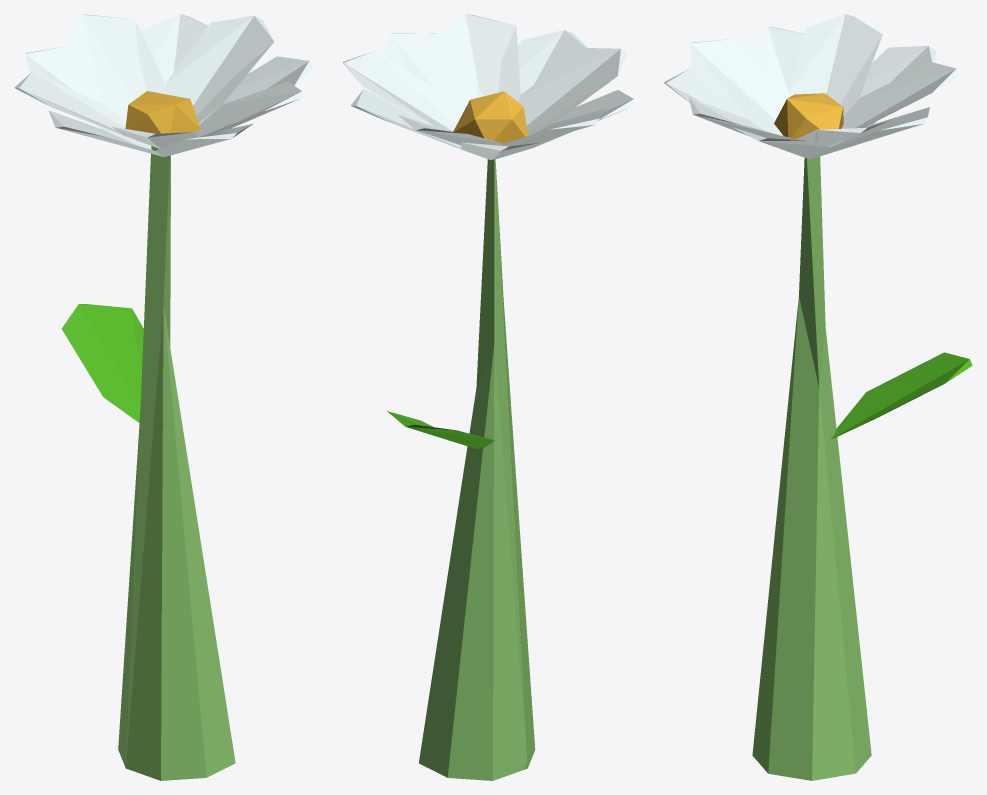
File: margarita1.obj
The picture shows the model from 3 angles, left to right: view 1: azimuth 30°, elevation 25°; view 2: azimuth 150°, elevation 25°; view 3: azimuth 270°, elevation 25°; orthographic projection. The views are drawn at different scales.
Visible parts, largest first — view 1: Cube; view 2: Cube; view 3: Cube.
Boxes of the visible parts, x1=… form: Cube: x1=14, y1=14, x2=313, y2=780; Cube: x1=342, y1=14, x2=634, y2=780; Cube: x1=663, y1=14, x2=972, y2=780.
Size of the model in its own units: 0.3535 by 0.9304 by 0.384.
